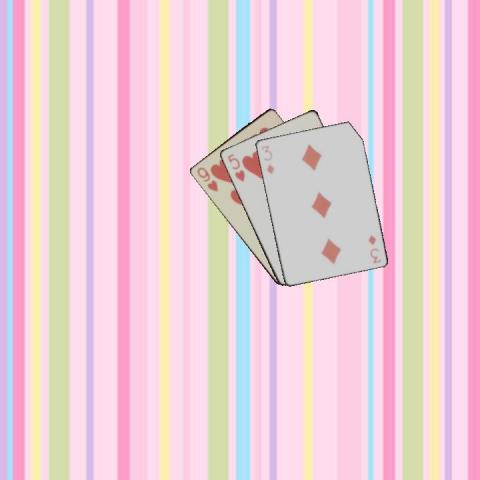3d: (258, 142, 275, 175), (365, 232, 382, 265)
5h: (224, 151, 246, 183)
9h: (194, 164, 220, 193)
